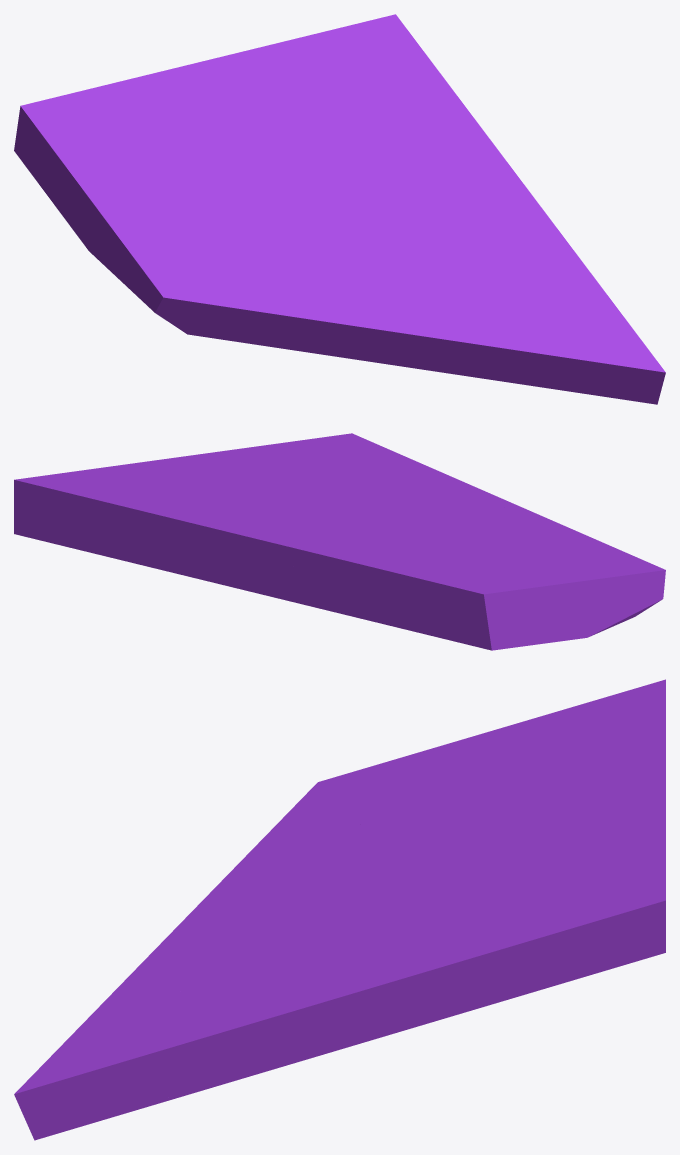
File: Window_139_1_chunks.fbx
3 renders of one model, top to bottom at view 1: azimuth 30°, elevation 25°; view 2: azimuth 150°, elevation 25°; view 3: azimuth 270°, elevation 25°, orthographic. The views are drawn at different scales.
Visible parts, largest first — view 1: Window_139_1_8, Window_139_1_15, Window_139_1_3, Window_139_1_1, Window_139_1_5, Window_139_1_17, Window_139_1_20, Window_139_1_22, Window_139_1_7, Window_139_1_13, Window_139_1_4, Window_139_1_18 (+11 smaller); view 2: Window_139_1_8, Window_139_1_20, Window_139_1_1, Window_139_1_6, Window_139_1_21, Window_139_1_22, Window_139_1_3, Window_139_1_5, Window_139_1_17, Window_139_1_15, Window_139_1_7, Window_139_1_4 (+12 smaller); view 3: Window_139_1_8, Window_139_1_18, Window_139_1_5, Window_139_1_3, Window_139_1_17, Window_139_1_29, Window_139_1_15, Window_139_1_1, Window_139_1_22, Window_139_1_20, Window_139_1_30, Window_139_1_7 (+12 smaller).
Part boxes in pixels (x1=…): Window_139_1_8: x1=241, y1=14, x2=467, y2=180; Window_139_1_15: x1=381, y1=289, x2=633, y2=400; Window_139_1_3: x1=127, y1=230, x2=314, y2=352; Window_139_1_1: x1=26, y1=146, x2=204, y2=281; Window_139_1_5: x1=277, y1=184, x2=428, y2=297; Window_139_1_17: x1=408, y1=130, x2=509, y2=274; Window_139_1_20: x1=14, y1=84, x2=155, y2=173; Window_139_1_22: x1=112, y1=54, x2=248, y2=134; Window_139_1_7: x1=165, y1=139, x2=339, y2=215; Window_139_1_13: x1=306, y1=276, x2=398, y2=364; Window_139_1_4: x1=202, y1=193, x2=302, y2=287; Window_139_1_18: x1=433, y1=110, x2=538, y2=216; Window_139_1_8: x1=14, y1=467, x2=338, y2=542; Window_139_1_20: x1=371, y1=558, x2=522, y2=650; Window_139_1_1: x1=464, y1=549, x2=629, y2=648; Window_139_1_6: x1=51, y1=521, x2=281, y2=599; Window_139_1_21: x1=253, y1=565, x2=401, y2=628; Window_139_1_22: x1=221, y1=528, x2=411, y2=566; Window_139_1_3: x1=526, y1=529, x2=665, y2=609; Window_139_1_5: x1=302, y1=491, x2=542, y2=530; Window_139_1_17: x1=167, y1=464, x2=376, y2=491; Window_139_1_15: x1=378, y1=448, x2=528, y2=510; Window_139_1_7: x1=327, y1=510, x2=478, y2=559; Window_139_1_4: x1=437, y1=529, x2=529, y2=553; Window_139_1_8: x1=431, y1=811, x2=665, y2=997; Window_139_1_18: x1=272, y1=932, x2=511, y2=1069; Window_139_1_5: x1=263, y1=845, x2=427, y2=940; Window_139_1_3: x1=227, y1=758, x2=405, y2=875; Window_139_1_17: x1=243, y1=923, x2=473, y2=986; Window_139_1_29: x1=14, y1=1038, x2=203, y2=1099; Window_139_1_15: x1=48, y1=917, x2=231, y2=1059; Window_139_1_1: x1=399, y1=701, x2=591, y2=800; Window_139_1_22: x1=538, y1=733, x2=665, y2=820; Window_139_1_20: x1=516, y1=679, x2=665, y2=763; Window_139_1_30: x1=174, y1=986, x2=321, y2=1068; Window_139_1_7: x1=401, y1=773, x2=528, y2=879.
Size of the model in its own units: 925 by 460 by 1132.
